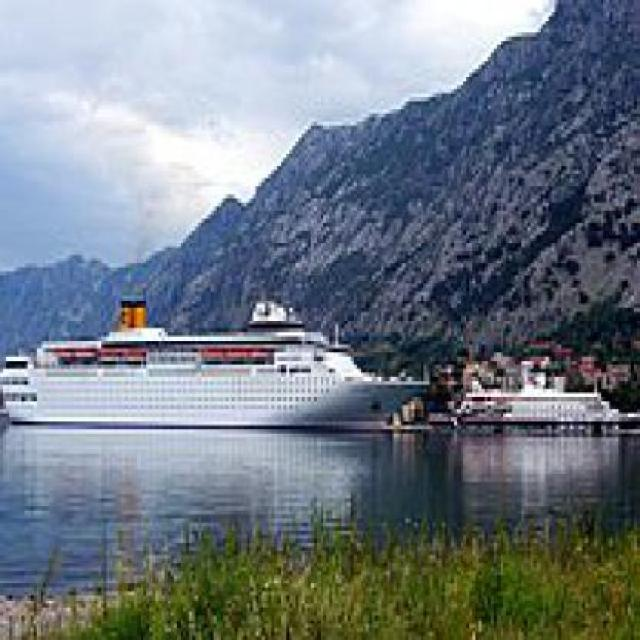cruise: (1, 289, 435, 432)
